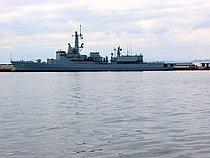MIL_Ship: (8, 28, 177, 71)
